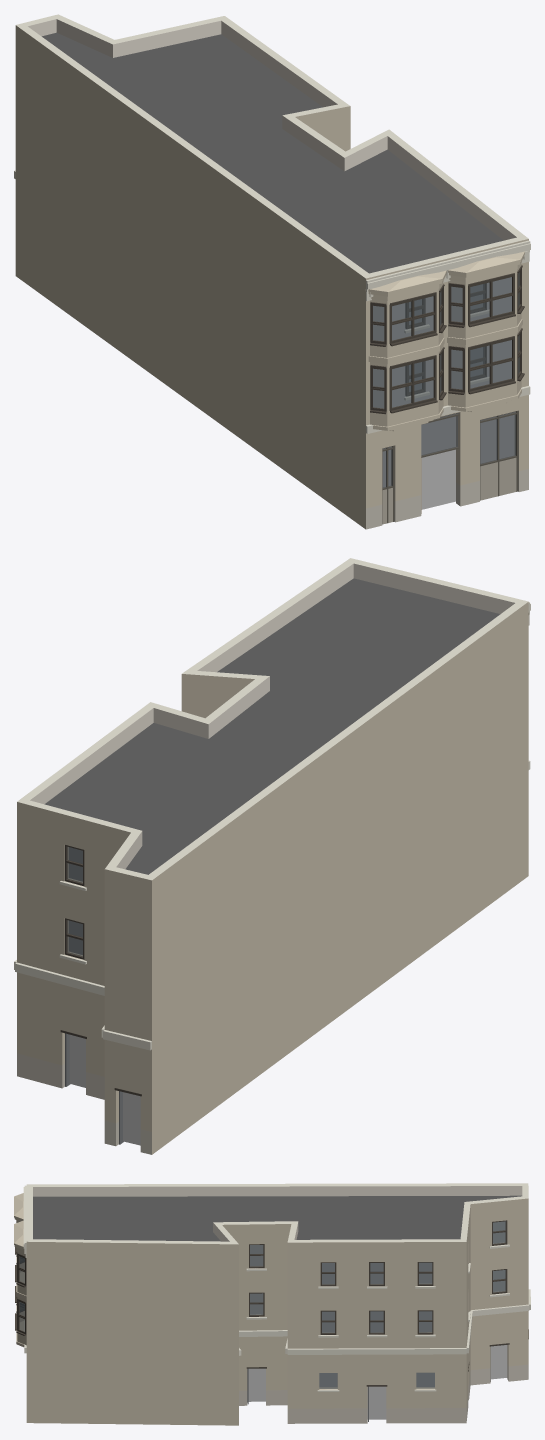
File: exterior.glb
3 views of the same model, one above another, from view 1: azimuth 30°, elevation 25°; view 2: azimuth 150°, elevation 25°; view 3: azimuth 270°, elevation 25° (orthographic). The views are drawn at different scales.
Visible parts, largest first — view 1: shell, roof, bay-glazing-hyb, bay-windows-hyb, shadow-proxy, glazing, storefront, trim; view 2: shell, roof, shadow-proxy, trim, glazing, frames; view 3: shell, roof, shadow-proxy, glazing, trim, frames, bay-windows-hyb, bay-glazing-hyb.
Part boxes in pixels (box(x1,y1,x2,y2)): shell: box(15, 14, 528, 529); roof: box(42, 32, 503, 273); bay-glazing-hyb: box(370, 265, 524, 414); bay-windows-hyb: box(365, 251, 524, 431); shadow-proxy: box(373, 277, 514, 509); glazing: box(382, 284, 515, 487); storefront: box(382, 411, 518, 524); trim: box(14, 170, 530, 433); shell: box(17, 558, 528, 1154); roof: box(44, 578, 500, 874); shadow-proxy: box(69, 847, 140, 1145); trim: box(14, 602, 530, 1050); glazing: box(67, 847, 82, 956); frames: box(64, 845, 84, 959); shell: box(26, 1183, 528, 1425); roof: box(33, 1195, 521, 1241); shadow-proxy: box(248, 1221, 507, 1419); glazing: box(250, 1221, 505, 1388); trim: box(23, 1185, 530, 1391); frames: box(249, 1220, 507, 1334); bay-windows-hyb: box(14, 1193, 26, 1347); bay-glazing-hyb: box(15, 1220, 26, 1335).
Size of the model in its own units: 7.76 by 10.74 by 27.76.
